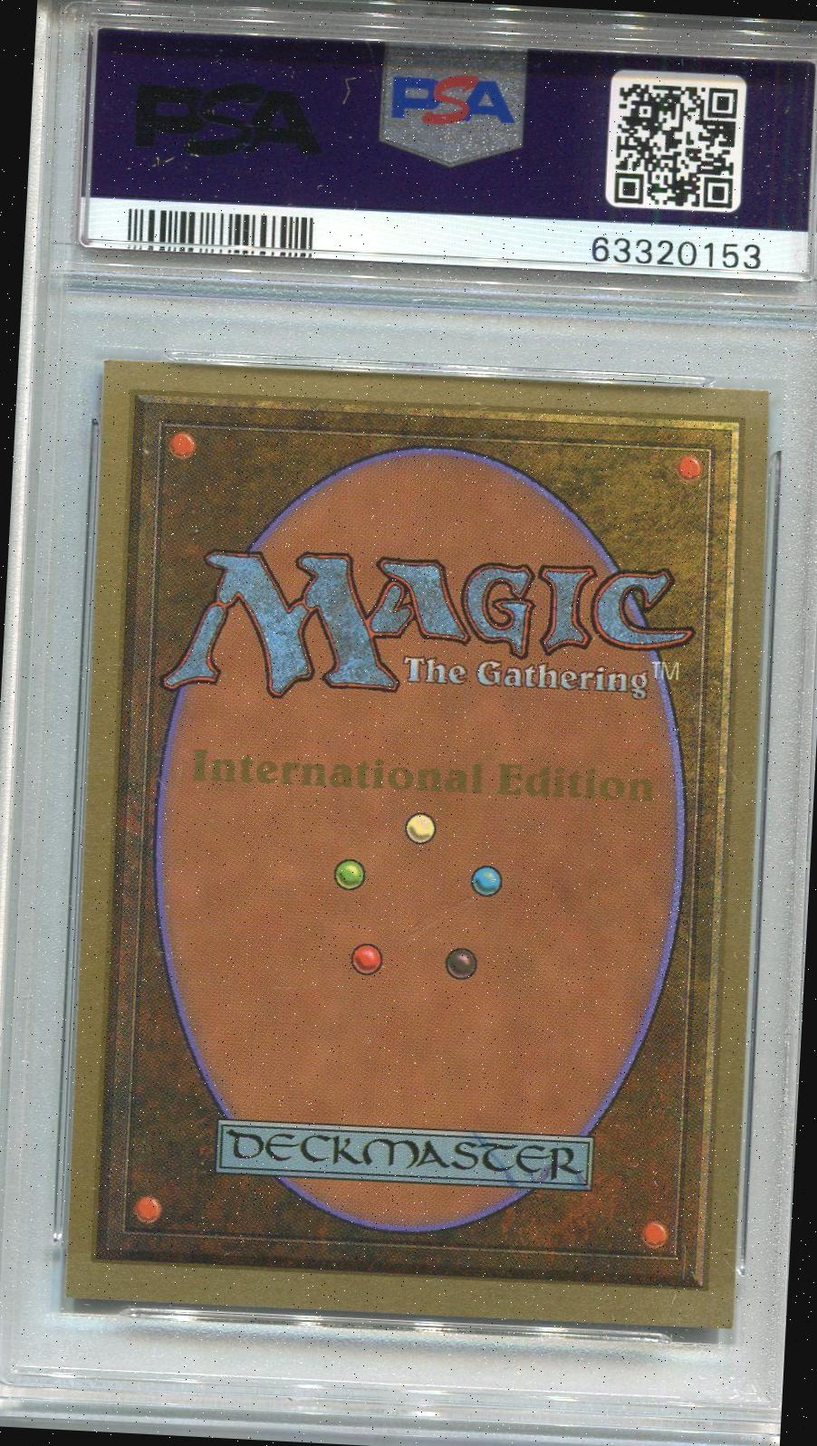card-2UtV: (63, 357, 772, 1329)
